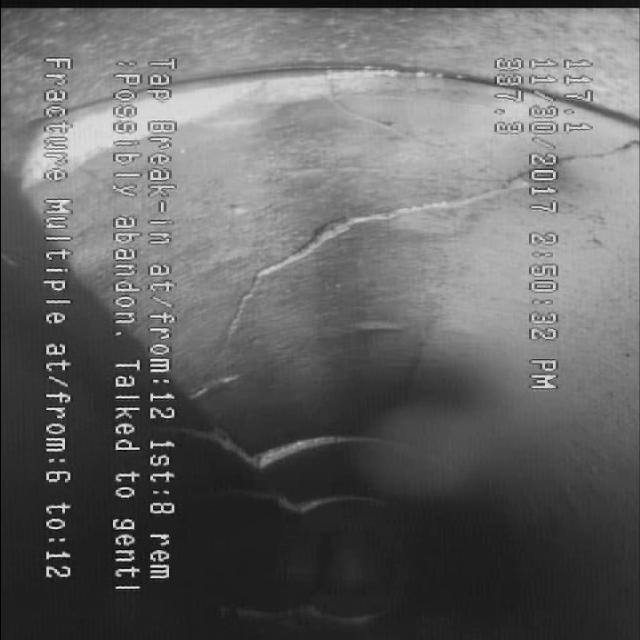Fracture: (230, 172, 503, 290)
